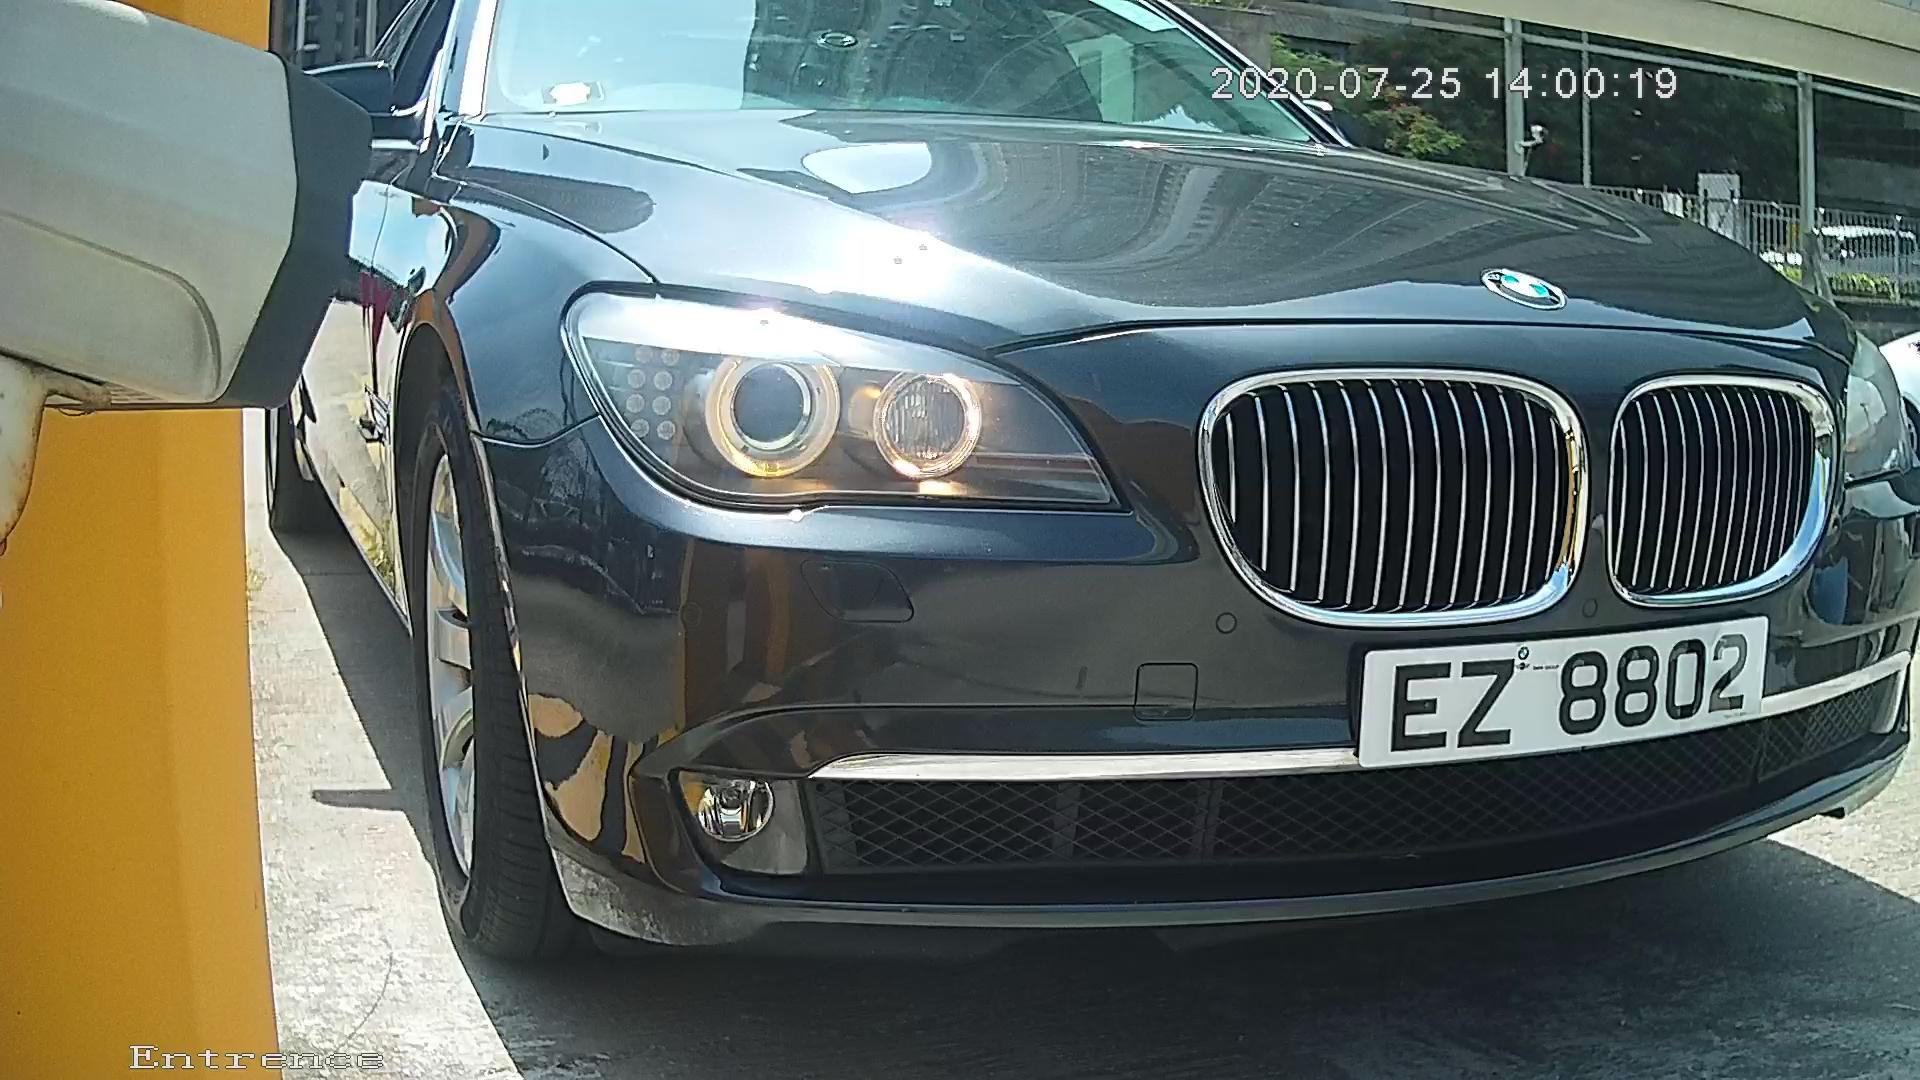License Plate: (1338, 603, 1766, 786)
